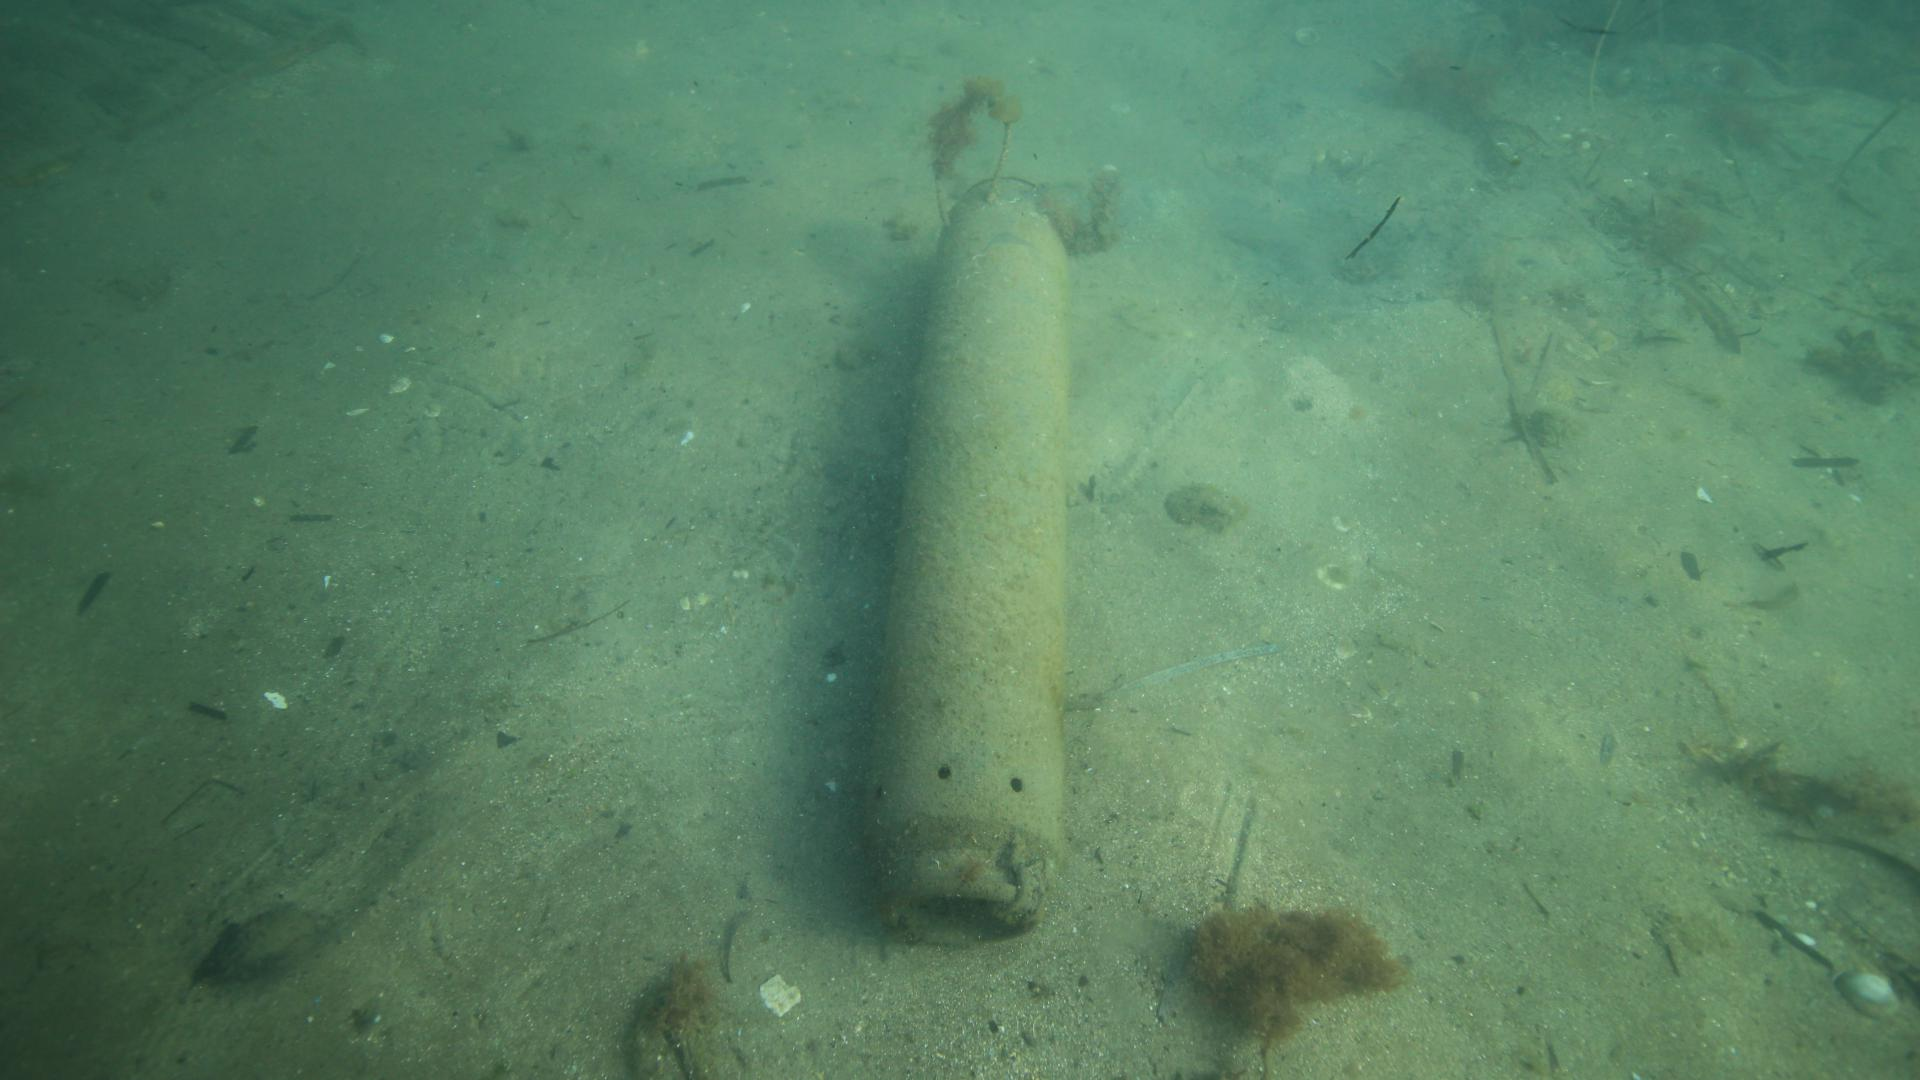eel fish trap: (862, 171, 1072, 957)
rope: (928, 86, 1017, 232)
